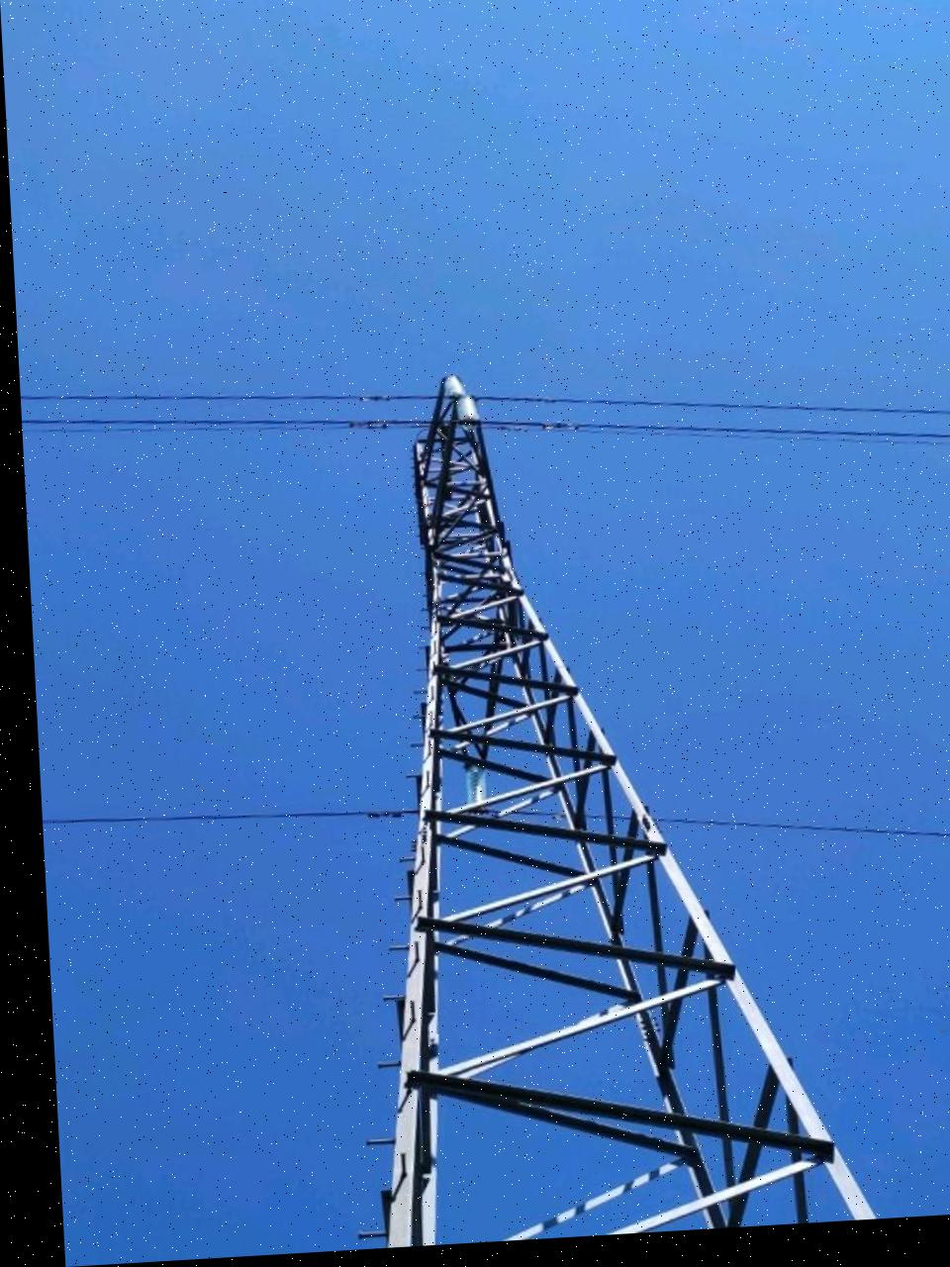tower: (354, 362, 924, 1247)
